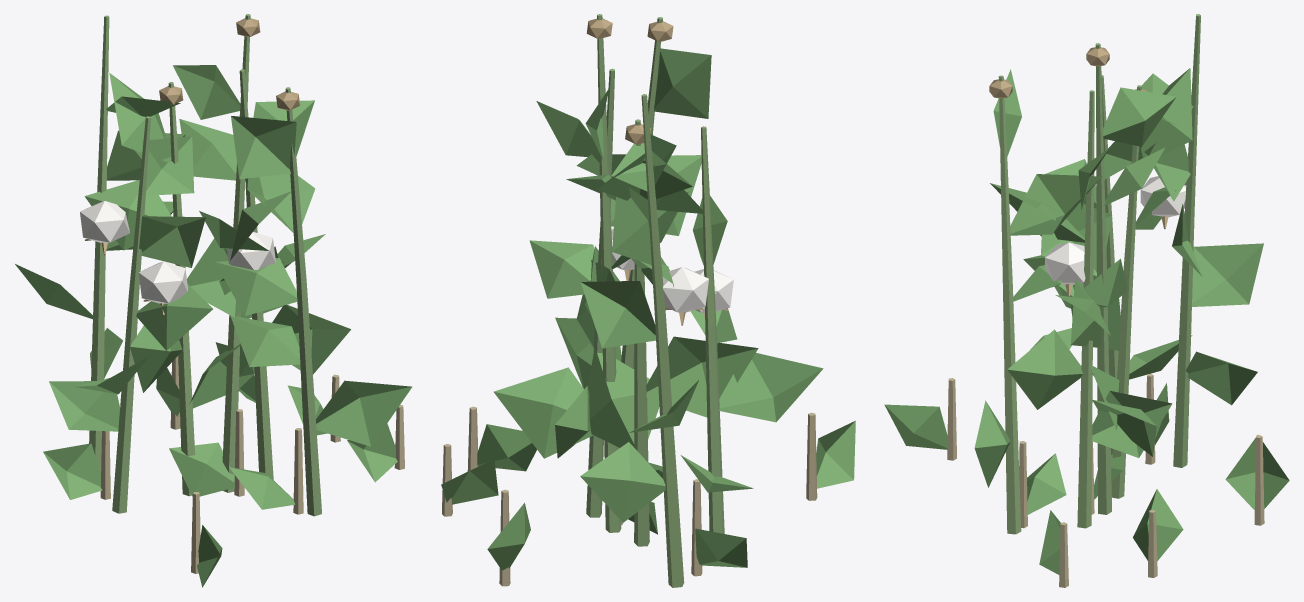
The model's file is plant-cotton-a.glb.
3 renders of one model, left to right at view 1: azimuth 30°, elevation 25°; view 2: azimuth 150°, elevation 25°; view 3: azimuth 270°, elevation 25°, orthographic. The views are drawn at different scales.
Visible parts, largest first — view 1: plant-cotton-a_full_leafA, plant-cotton-a_full_stemGreen, plant-cotton-a_low_leafA, plant-cotton-a_fruit_cottonWhite, plant-cotton-a_low_stemDry, plant-cotton-a_fruit_cottonBract; view 2: plant-cotton-a_full_leafA, plant-cotton-a_full_stemGreen, plant-cotton-a_low_leafA, plant-cotton-a_low_stemDry, plant-cotton-a_fruit_cottonWhite, plant-cotton-a_fruit_cottonBract; view 3: plant-cotton-a_full_leafA, plant-cotton-a_full_stemGreen, plant-cotton-a_low_leafA, plant-cotton-a_low_stemDry, plant-cotton-a_fruit_cottonWhite, plant-cotton-a_fruit_cottonBract.
Part boxes in pixels (x1,y1,x2,y2): plant-cotton-a_full_leafA: (15,65,412,446); plant-cotton-a_full_stemGreen: (89,14,321,516); plant-cotton-a_low_leafA: (43,368,397,587); plant-cotton-a_fruit_cottonWhite: (80,201,275,303); plant-cotton-a_low_stemDry: (100,356,404,573); plant-cotton-a_fruit_cottonBract: (85,18,300,315); plant-cotton-a_full_leafA: (493,48,823,522); plant-cotton-a_full_stemGreen: (586,14,724,587); plant-cotton-a_low_leafA: (441,420,855,570); plant-cotton-a_low_stemDry: (442,406,817,586); plant-cotton-a_fruit_cottonWhite: (611,229,733,313); plant-cotton-a_fruit_cottonBract: (586,18,728,325); plant-cotton-a_full_leafA: (974,68,1263,487); plant-cotton-a_full_stemGreen: (998,14,1200,534); plant-cotton-a_low_leafA: (884,383,1289,574); plant-cotton-a_low_stemDry: (947,373,1264,587); plant-cotton-a_fruit_cottonWhite: (1045,176,1186,284); plant-cotton-a_fruit_cottonBract: (989,47,1168,296).
Bounding box in the file's own units: 0.8108 × 1.15 × 0.8872.
